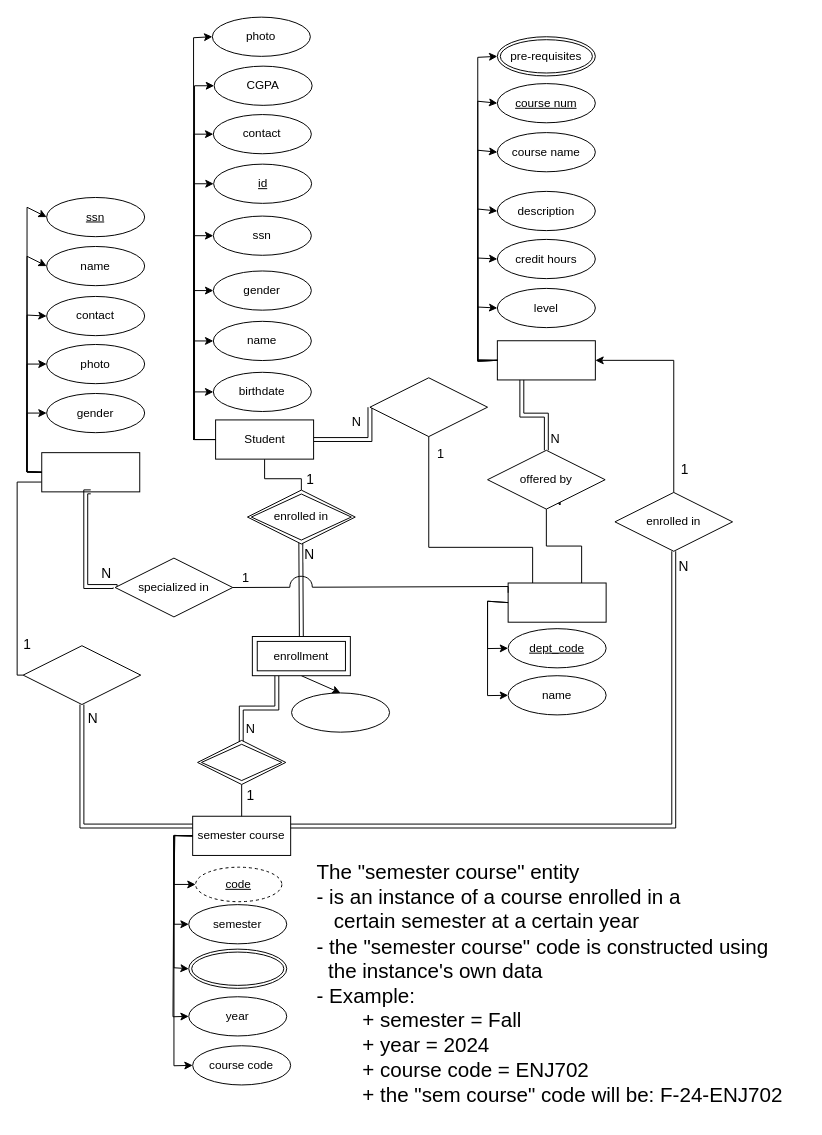
The diagram is 822 pixels wide and 1135 high, and some of its shapes have lost their labels. The shapes that lost their labels are listed below. From the top down, each one's box as (x1, y1, x2, y2) in pixels, then its label:
(496, 340, 595, 380): Course
(369, 377, 488, 437): student of
(41, 452, 140, 492): professor
(507, 582, 606, 622): Department
(22, 645, 141, 705): enrolled by
(291, 692, 390, 732): grade
(197, 739, 286, 784): has
(188, 948, 287, 988): professors
